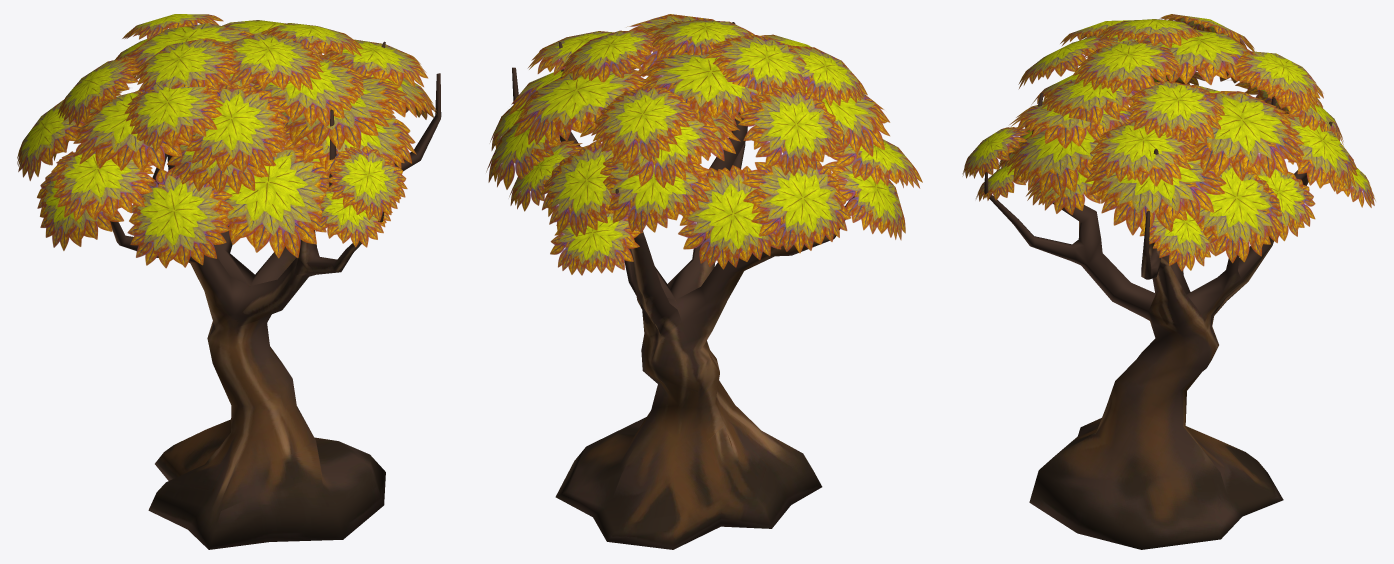
Rendered from tree_autumn.glb.
The picture shows the model from 3 angles, left to right: view 1: azimuth 30°, elevation 25°; view 2: azimuth 150°, elevation 25°; view 3: azimuth 270°, elevation 25°; orthographic projection. The views are drawn at different scales.
Parts seen in each view (by area): view 1: tree_autumn; view 2: tree_autumn; view 3: tree_autumn.
Boxes of the visible parts, x1=… form: tree_autumn: x1=17, y1=14, x2=441, y2=549; tree_autumn: x1=486, y1=14, x2=922, y2=549; tree_autumn: x1=962, y1=14, x2=1375, y2=549.
Bounding box in the file's own units: 8.58 × 9.24 × 8.01.
Materials: 2 (2 with a texture image).
